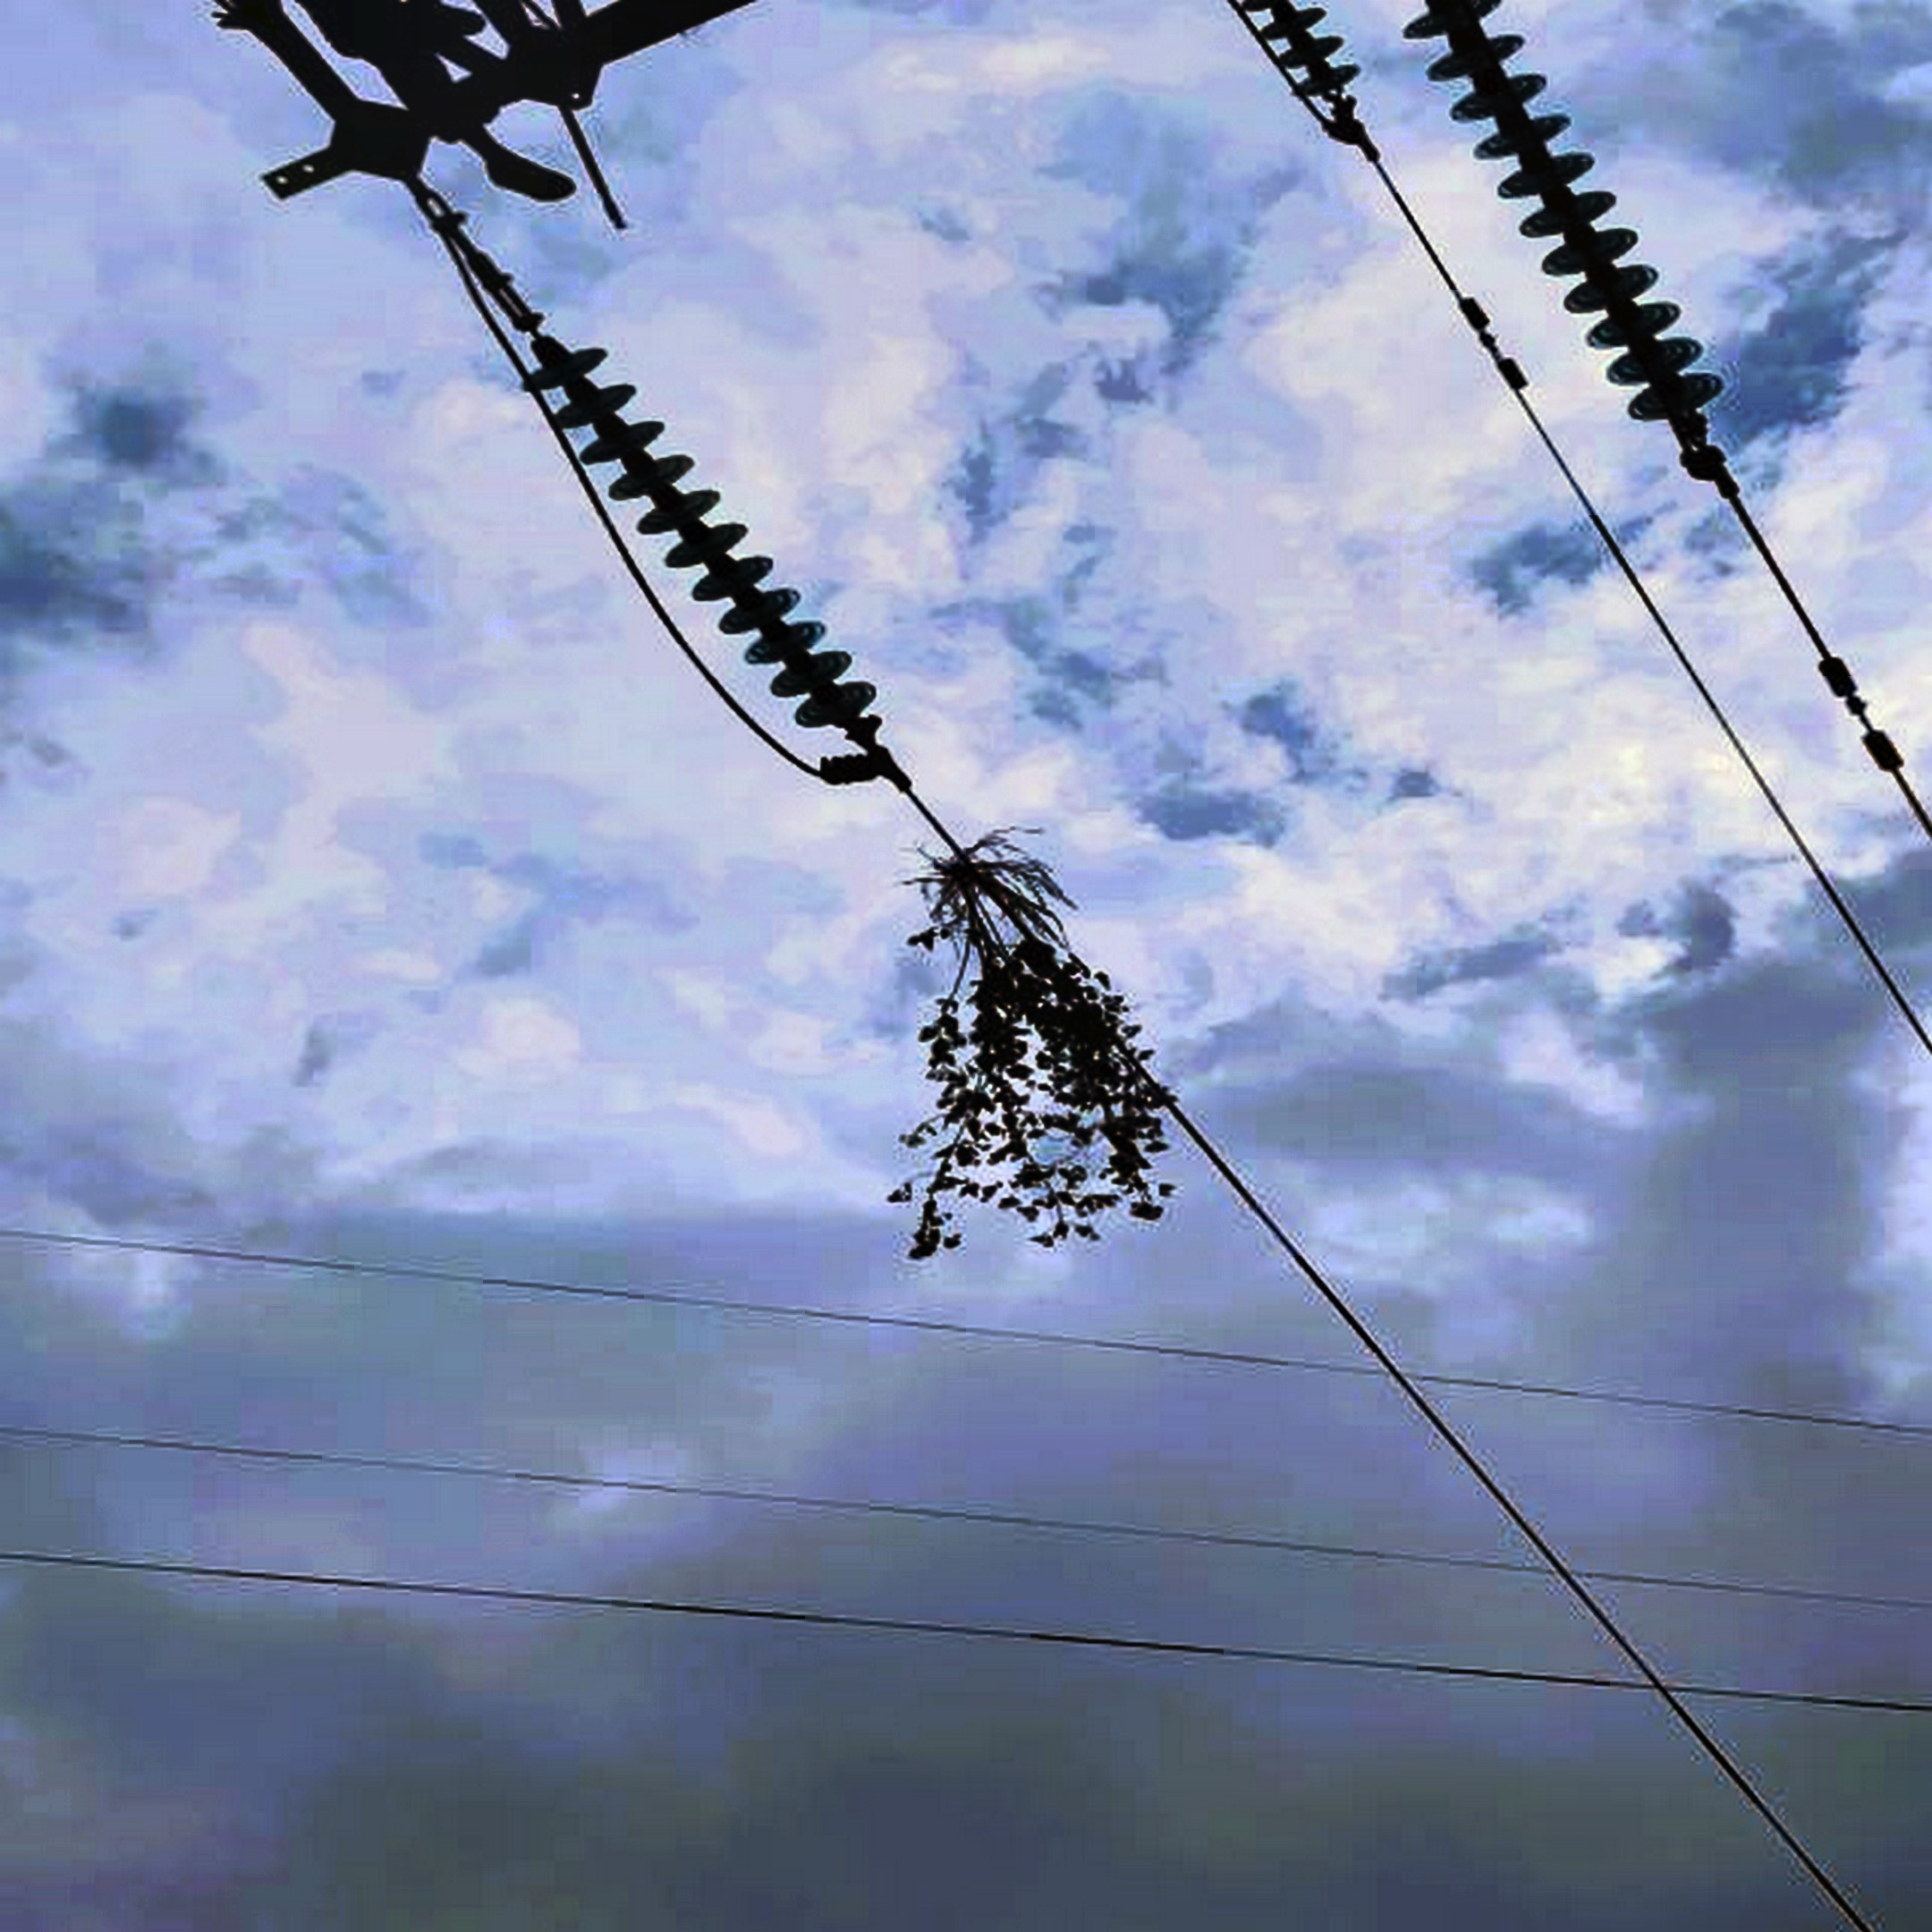wire foreign body: (844, 807, 1212, 1277)
